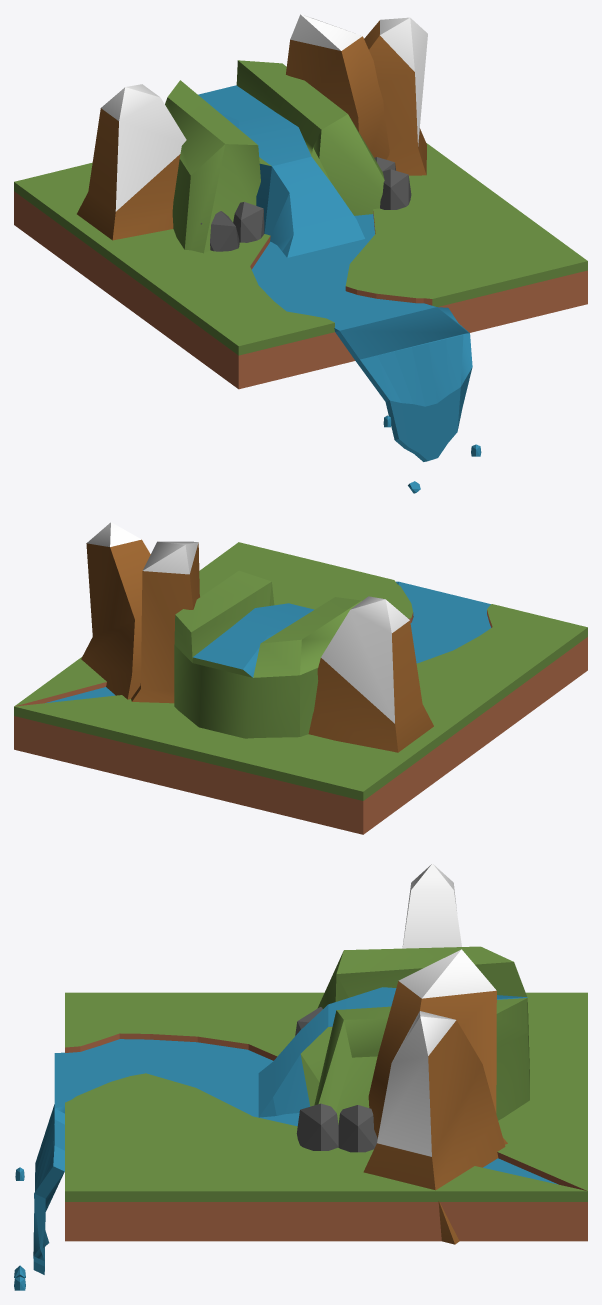
Rendered from Mountain.glb.
The picture shows the model from 3 angles, top to bottom: view 1: azimuth 30°, elevation 25°; view 2: azimuth 150°, elevation 25°; view 3: azimuth 270°, elevation 25°; orthographic projection. The views are drawn at different scales.
Visible parts, largest first — view 1: Box001, Box002, Pyramid001, Pyramid002, Pyramid003, GeoSphere001, GeoSphere003, GeoSphere004; view 2: Box001, Box002, Pyramid001, Pyramid003, Pyramid002; view 3: Box001, Box002, Pyramid003, Pyramid002, Pyramid001, GeoSphere001, GeoSphere002.
Part boxes in pixels (<box>): Box001: <box>14,143,587,461</box>; Box002: <box>165,60,384,257</box>; Pyramid001: <box>77,84,186,240</box>; Pyramid002: <box>286,14,389,159</box>; Pyramid003: <box>364,17,427,175</box>; GeoSphere001: <box>380,169,411,209</box>; GeoSphere003: <box>233,202,264,242</box>; GeoSphere004: <box>201,211,239,251</box>; Box001: <box>14,542,587,834</box>; Box002: <box>174,570,361,738</box>; Pyramid001: <box>308,596,433,752</box>; Pyramid003: <box>81,522,150,699</box>; Pyramid002: <box>131,541,199,703</box>; Box001: <box>33,992,587,1274</box>; Box002: <box>258,946,529,1124</box>; Pyramid003: <box>363,1011,505,1244</box>; Pyramid002: <box>368,949,507,1144</box>; Pyramid001: <box>402,863,461,948</box>; GeoSphere001: <box>296,1103,338,1150</box>; GeoSphere002: <box>338,1105,377,1152</box>.
Size of the model in its own units: 121 by 104 by 145.
